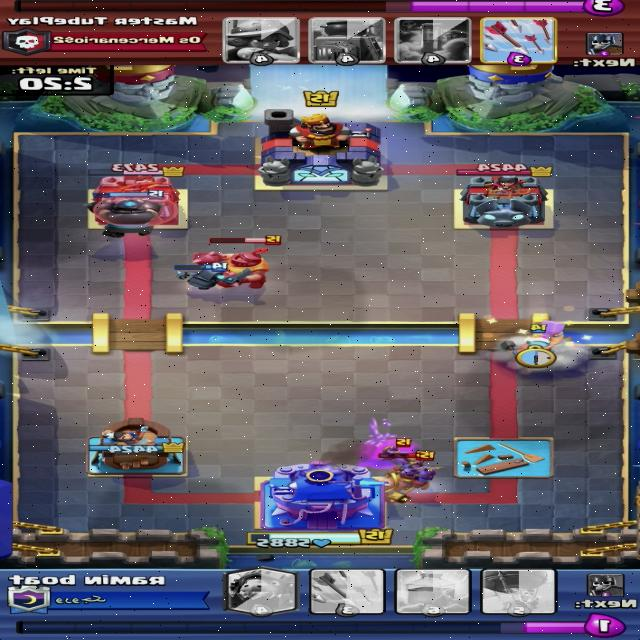Enemy-Hog: (360, 450, 435, 503)
Enemy-MegaKnight: (192, 234, 282, 292)
Enemy-Minion: (377, 439, 431, 467), (402, 451, 439, 483)
Player-Lumberjack: (499, 318, 565, 360)
Player-MegaKnight: (84, 190, 170, 238)
Player-MiniPEKKA: (172, 262, 239, 291)
